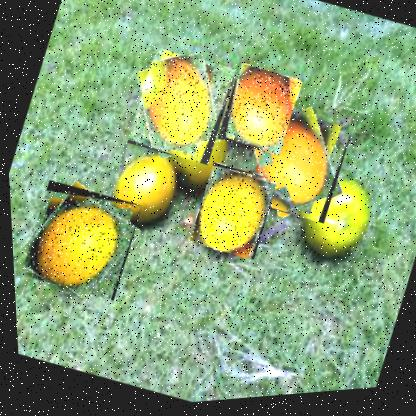orange: (12, 174, 143, 309), (231, 100, 356, 235), (120, 44, 239, 174), (182, 161, 278, 268), (211, 63, 303, 165)
